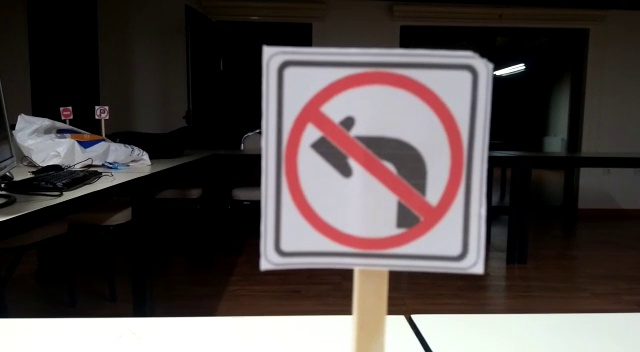sola_donulmez: (269, 77, 473, 269)
